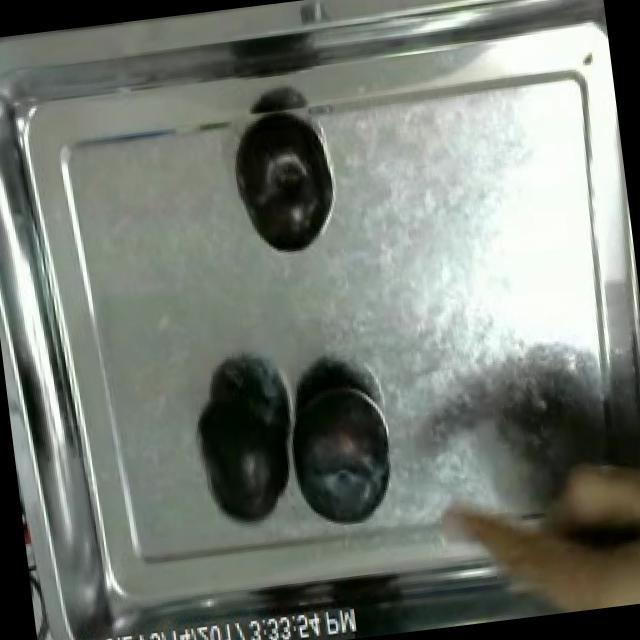Fruit: (182, 354, 306, 534), (279, 367, 403, 535), (225, 110, 336, 264), (538, 443, 640, 566)
